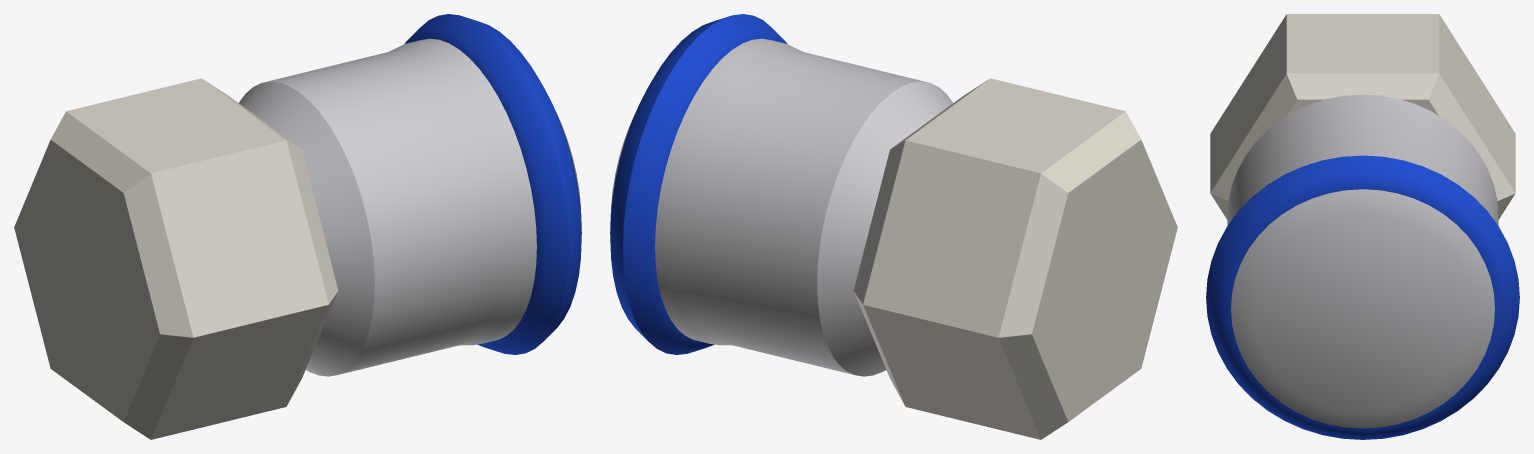
File: fitting_adp_22x34_F.glb
The picture shows the model from 3 angles, left to right: view 1: azimuth 30°, elevation 25°; view 2: azimuth 150°, elevation 25°; view 3: azimuth 270°, elevation 25°; orthographic projection. The views are drawn at different scales.
Visible parts, largest first — view 1: шестигранник переходника, раструб, кольцо пресс; view 2: шестигранник переходника, раструб, кольцо пресс; view 3: раструб, шестигранник переходника, кольцо пресс.
Part boxes in pixels (x1=…): шестигранник переходника: x1=14, y1=78, x2=338, y2=439; раструб: x1=239, y1=38, x2=580, y2=376; кольцо пресс: x1=404, y1=14, x2=581, y2=354; шестигранник переходника: x1=853, y1=78, x2=1177, y2=439; раструб: x1=611, y1=38, x2=952, y2=376; кольцо пресс: x1=610, y1=14, x2=787, y2=354; раструб: x1=1227, y1=94, x2=1498, y2=428; шестигранник переходника: x1=1210, y1=14, x2=1515, y2=219; кольцо пресс: x1=1206, y1=155, x2=1519, y2=439.
Bounding box in the file's own units: 0.051 × 0.0356 × 0.0356.
